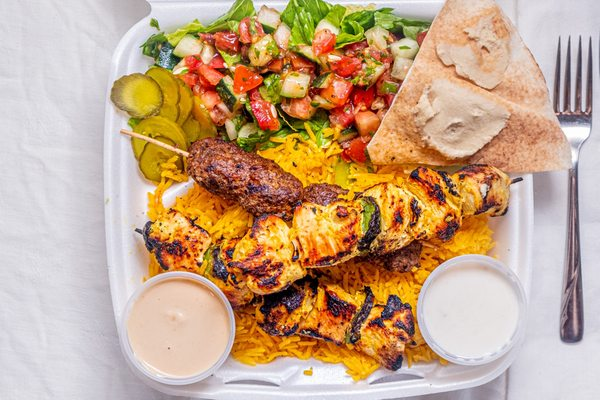burger: (555, 32, 595, 343)
soup: (365, 0, 567, 175)
sushi: (120, 270, 236, 387), (415, 253, 527, 367)
